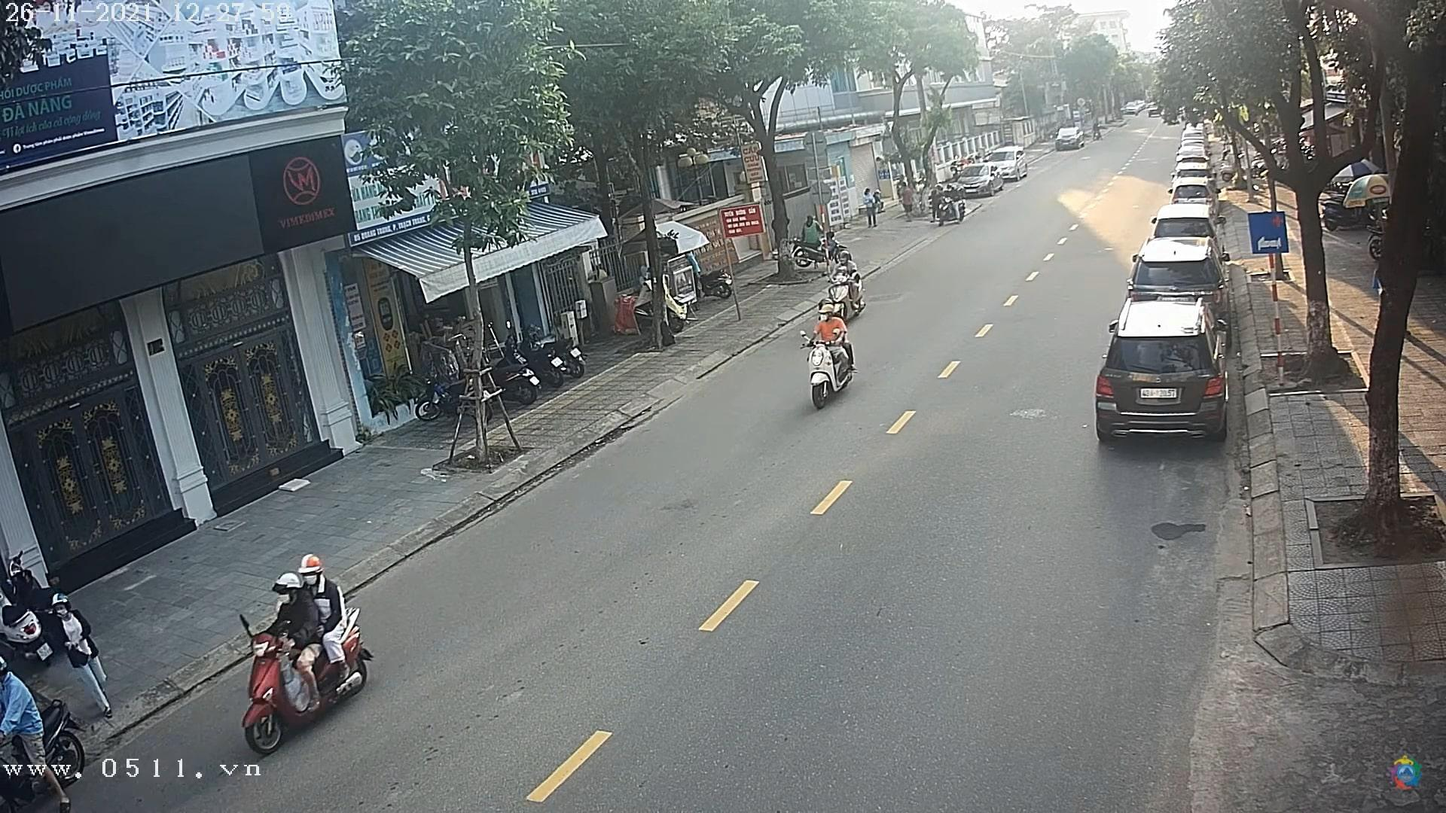motorbike: (234, 616, 373, 755), (807, 336, 854, 412), (825, 268, 872, 327)
